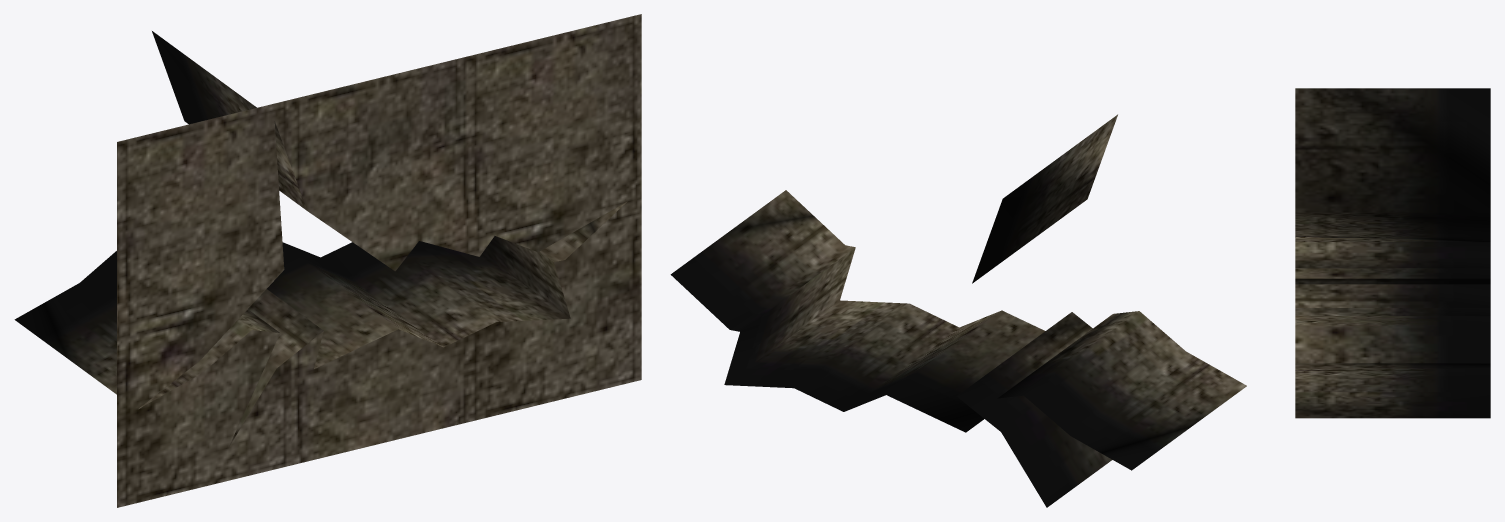
3 views of the same model, side by side, from view 1: azimuth 30°, elevation 25°; view 2: azimuth 150°, elevation 25°; view 3: azimuth 270°, elevation 25° (orthographic). The views are drawn at different scales.
Visible parts, largest first — view 1: model_Object08; view 2: model_Object08; view 3: model_Object08.
Part boxes in pixels (x1=…): model_Object08: x1=14, y1=14, x2=641, y2=507; model_Object08: x1=670, y1=114, x2=1246, y2=507; model_Object08: x1=1295, y1=88, x2=1490, y2=418.
Bounding box in the file's own units: 3 × 2 × 1.22.
Materials: 2 (2 with a texture image).
